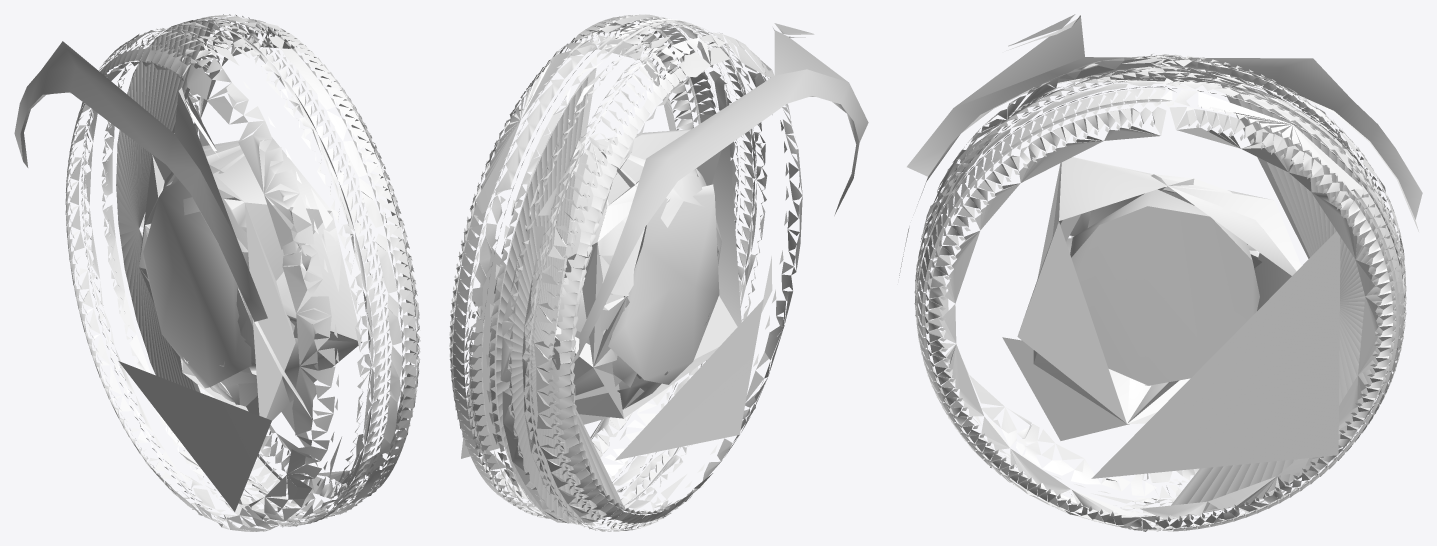
3 views of the same model, side by side, from view 1: azimuth 30°, elevation 25°; view 2: azimuth 150°, elevation 25°; view 3: azimuth 270°, elevation 25° (orthographic). The views are drawn at different scales.
Size of the model in its own units: 0.2586 by 0.6137 by 0.6441.
Materials: 1 (1 with a texture image).
